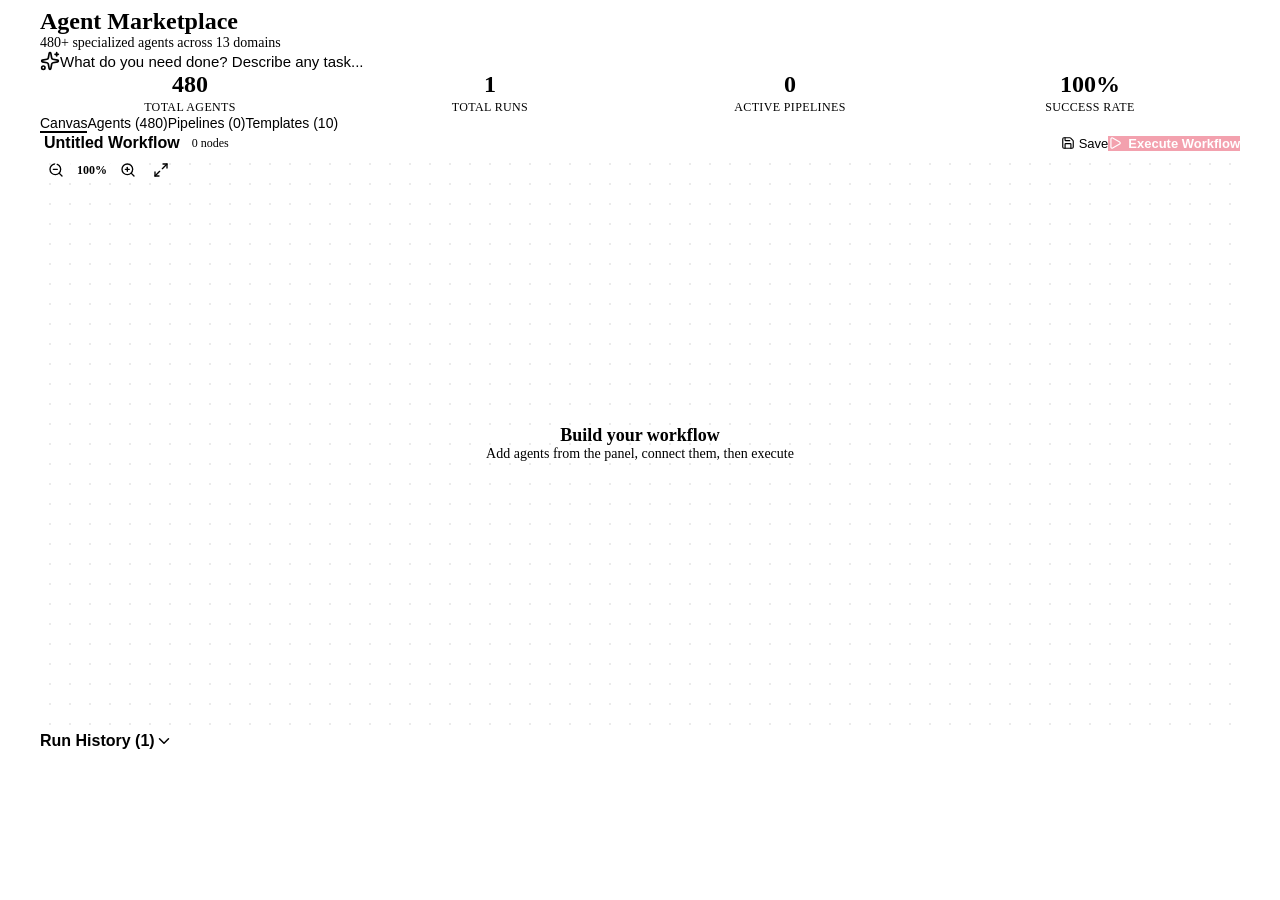
Test case: AIAgentsPage › closes results modal when close button is clicked
Click the button "Run History (1)": point(90, 740) [40,732,1240,750]
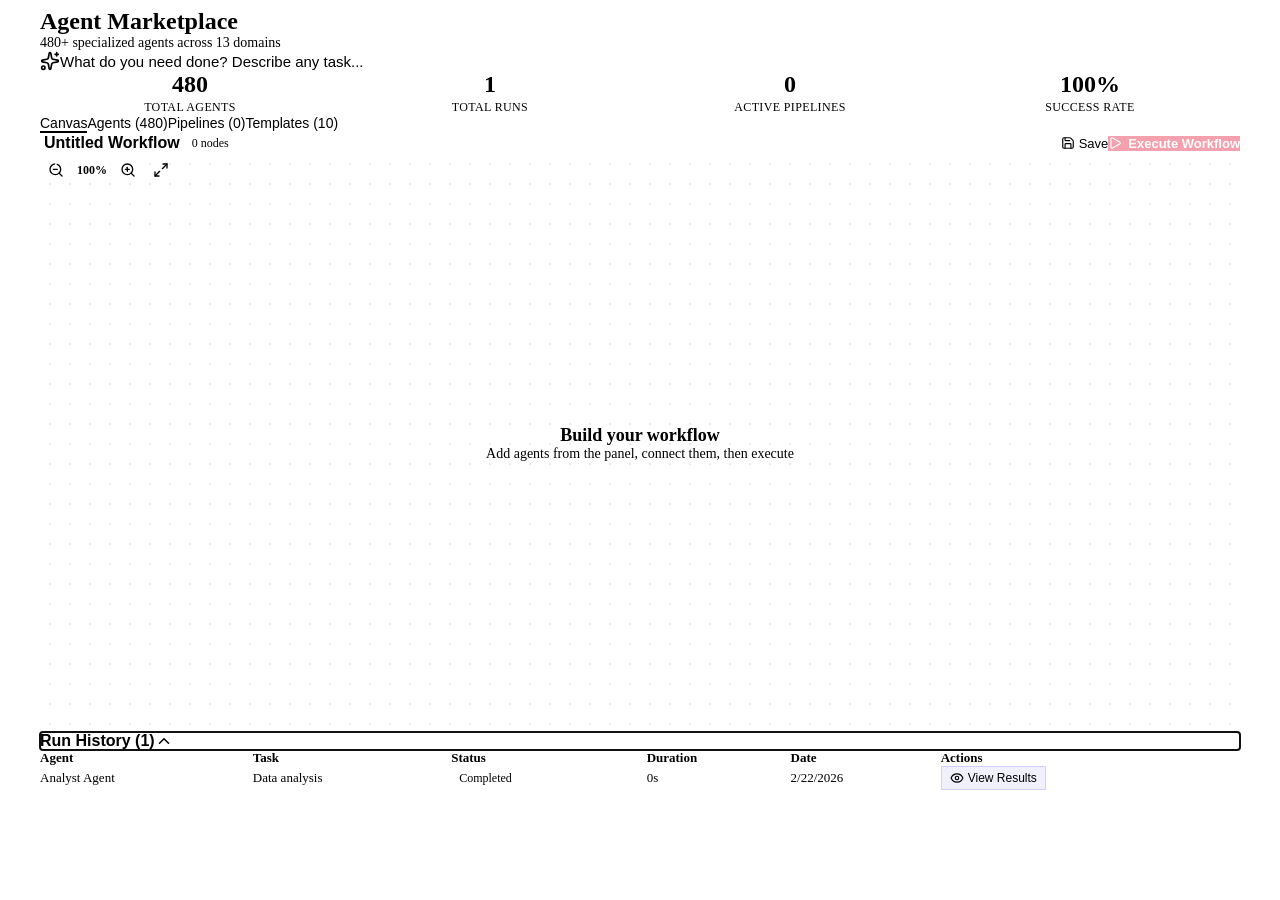
Click the button "View Results": point(993, 778) [941,766,1046,790]
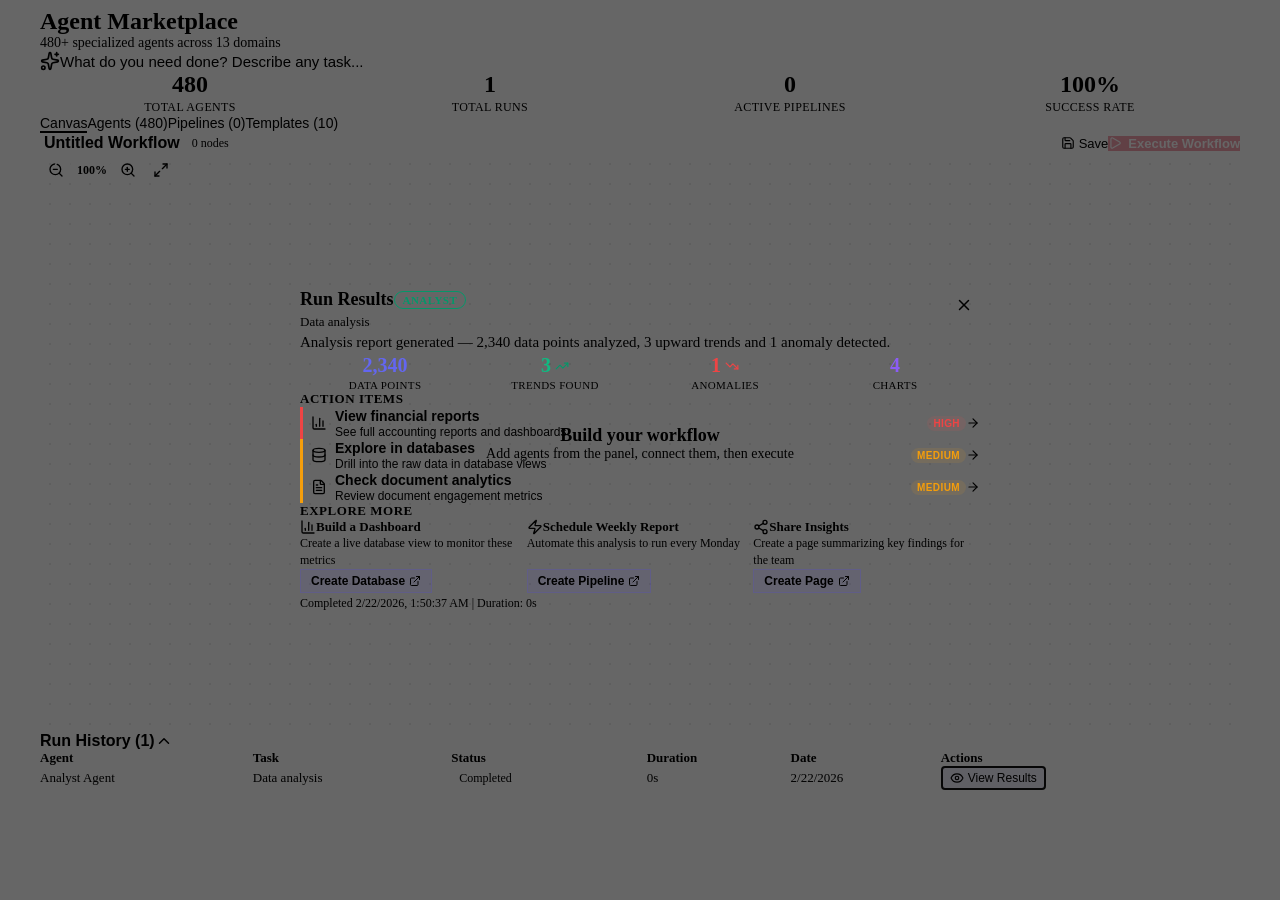
Now the dialog is shown
Click the button named "close results": point(964, 305) [948,289,980,321]
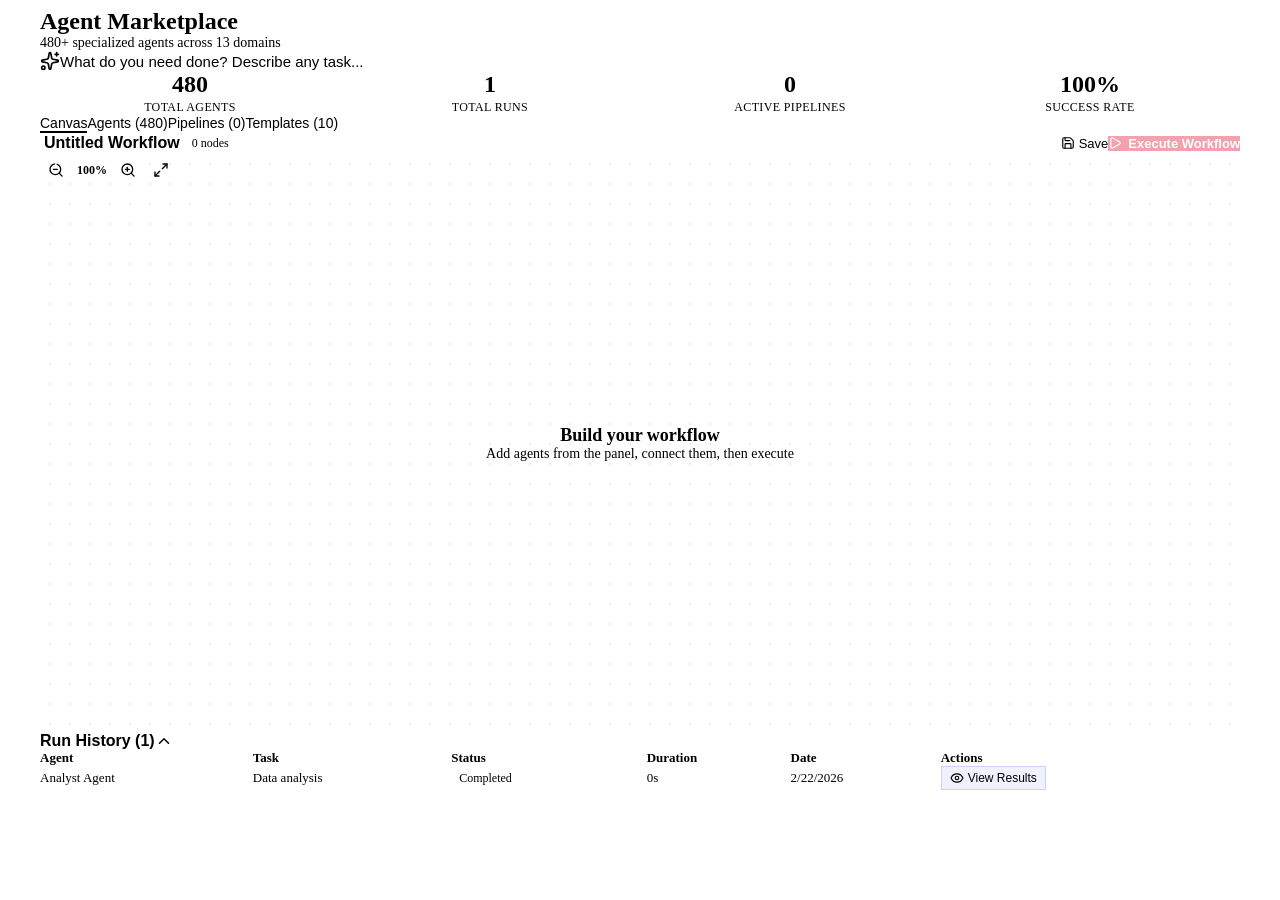
Now the dialog is gone
